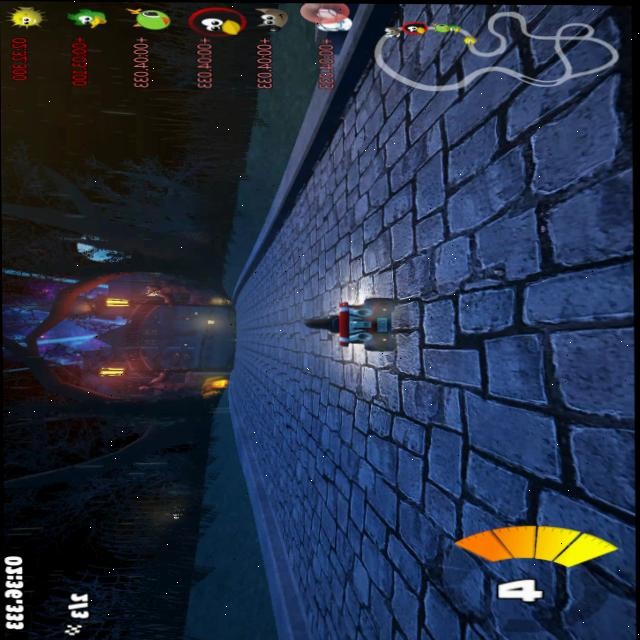player_kart: (306, 290, 395, 352)
track: (387, 3, 613, 640), (236, 351, 391, 528), (286, 530, 397, 640), (332, 76, 384, 289), (229, 294, 301, 353), (303, 126, 327, 288), (282, 203, 302, 287), (268, 248, 301, 293), (252, 260, 266, 290)
